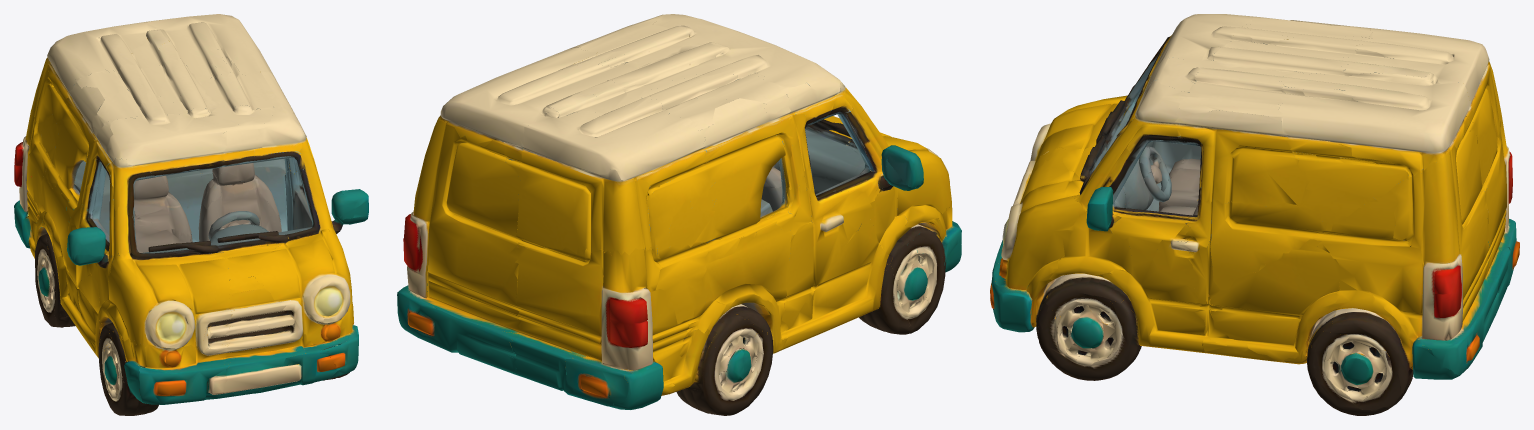
The model's file is GameToyVan.fbx.
3 renders of one model, left to right at view 1: azimuth 30°, elevation 25°; view 2: azimuth 150°, elevation 25°; view 3: azimuth 270°, elevation 25°, orthographic. The views are drawn at different scales.
Parts seen in each view (by area): view 1: GameToyVan; view 2: GameToyVan; view 3: GameToyVan.
Part boxes in pixels (x1,y1,x2,y2): GameToyVan: [14, 14, 368, 415]; GameToyVan: [397, 14, 961, 415]; GameToyVan: [990, 14, 1519, 415].
Bounding box in the file's own units: 324 × 238 × 400.
